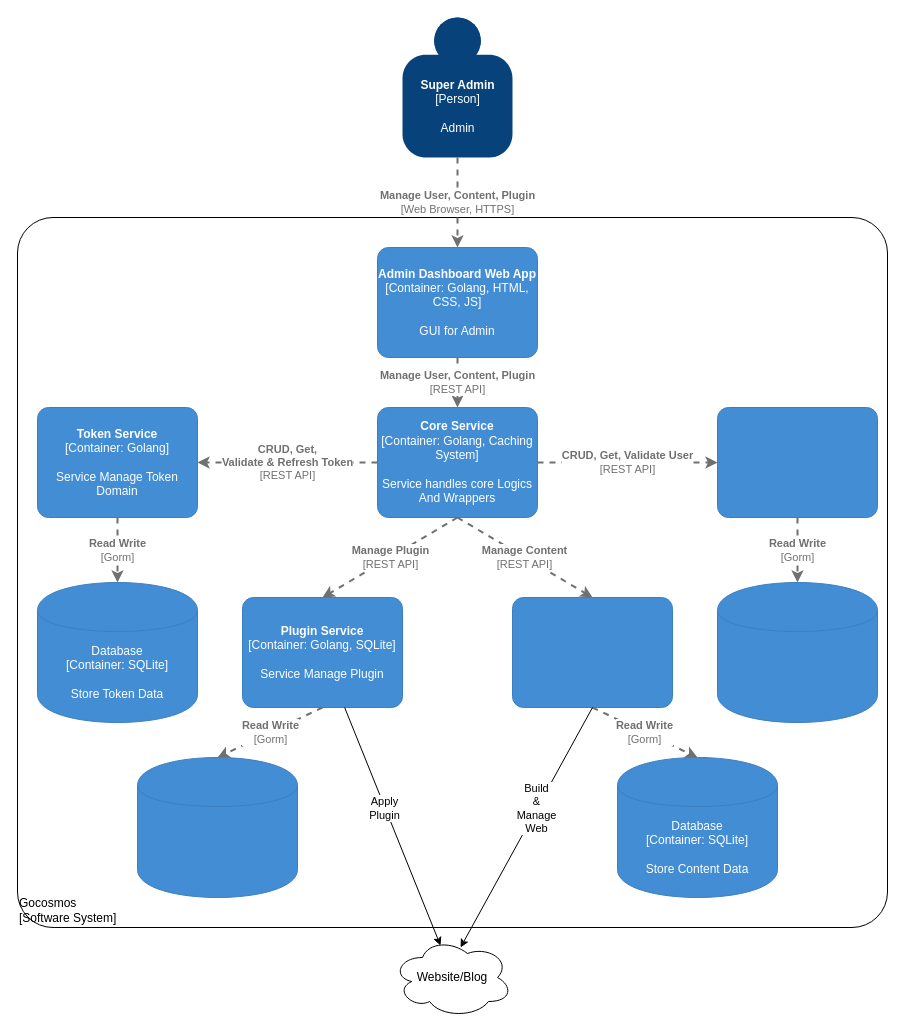
This 905x1035 diagram has some shape labels left out. Here are the shapes that lost their labels. From the top down, the centre of each, then its label:
At point 797,462: "User Service [Container: Golang] Service Manage User Domain".
At point 592,652: "Content Service [Container: Golang, SQLite] Service Manage Content".
At point 797,652: "Database [Container: SQLite] Store User Data".
At point 217,827: "Database [Container: SQLite] Store Plugin Data".
